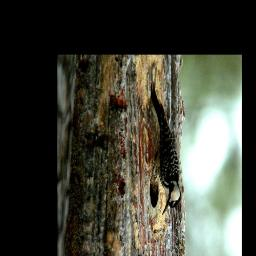Woodpecker: (143, 72, 185, 220)
